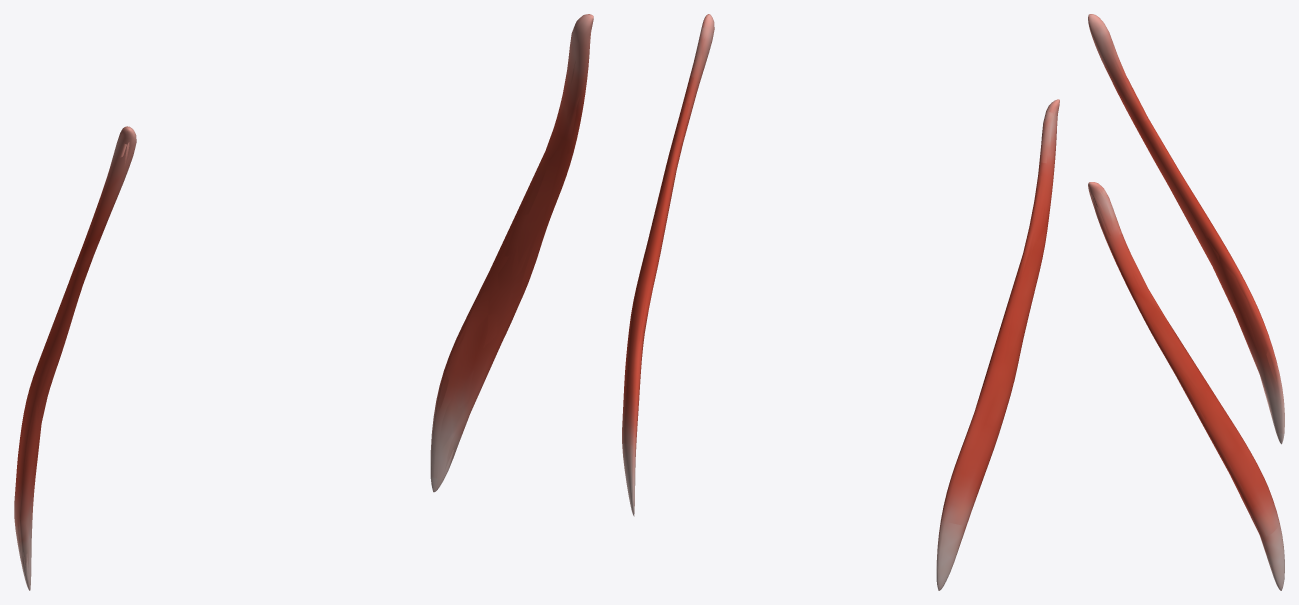
The model's file is parotidoauricular.fbx.
3 renders of one model, left to right at view 1: azimuth 30°, elevation 25°; view 2: azimuth 150°, elevation 25°; view 3: azimuth 270°, elevation 25°, orthographic. The views are drawn at different scales.
Visible parts, largest first — view 1: parotidoauricular, parotidoauricular low; view 2: parotidoauricular, parotidoauricular low; view 3: parotidoauricular, parotidoauricular low.
Part boxes in pixels (bbox=[...]): parotidoauricular: bbox=[14, 14, 593, 590]; parotidoauricular low: bbox=[14, 15, 591, 577]; parotidoauricular: bbox=[622, 14, 1059, 590]; parotidoauricular low: bbox=[622, 14, 1058, 577]; parotidoauricular: bbox=[1088, 14, 1284, 590]; parotidoauricular low: bbox=[1090, 14, 1284, 578].
Bounding box in the file's own units: 21.58 × 23.33 × 9.93.
Materials: 1 (1 with a texture image).
